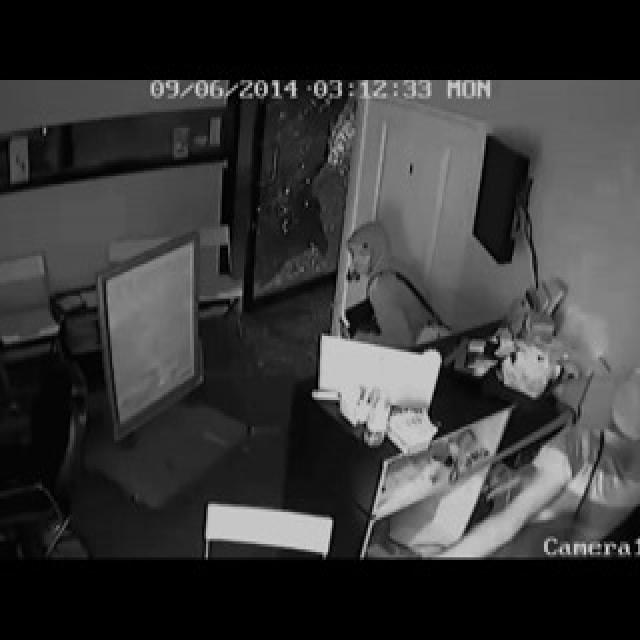thief: (338, 198, 424, 402)
